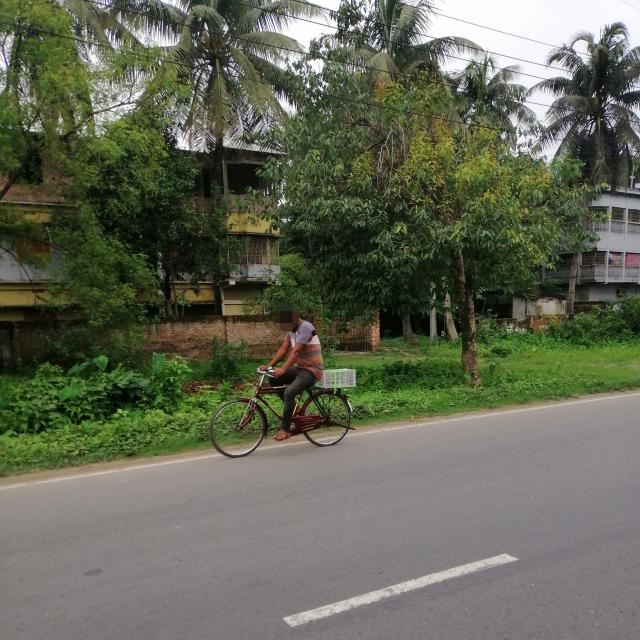Bicycle: (205, 366, 360, 466)
